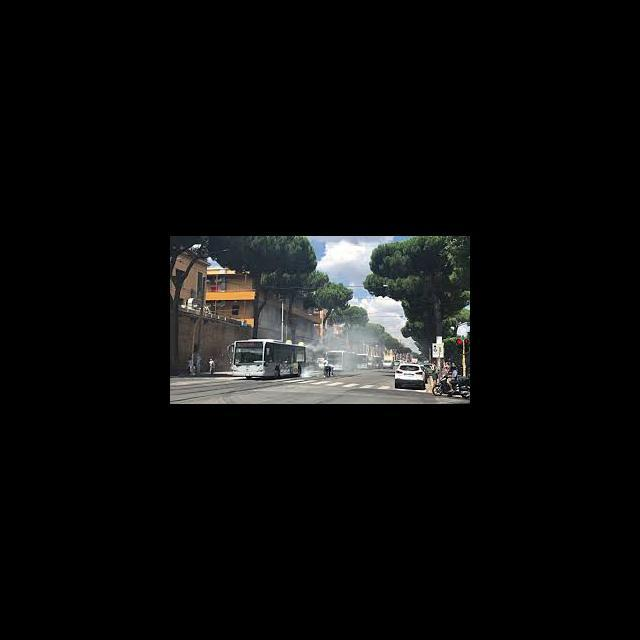Smoke: (299, 326, 382, 381)
